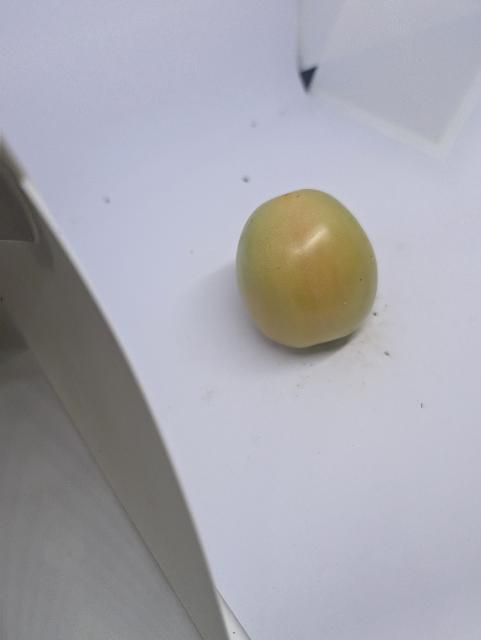breaker: (233, 185, 384, 355)
